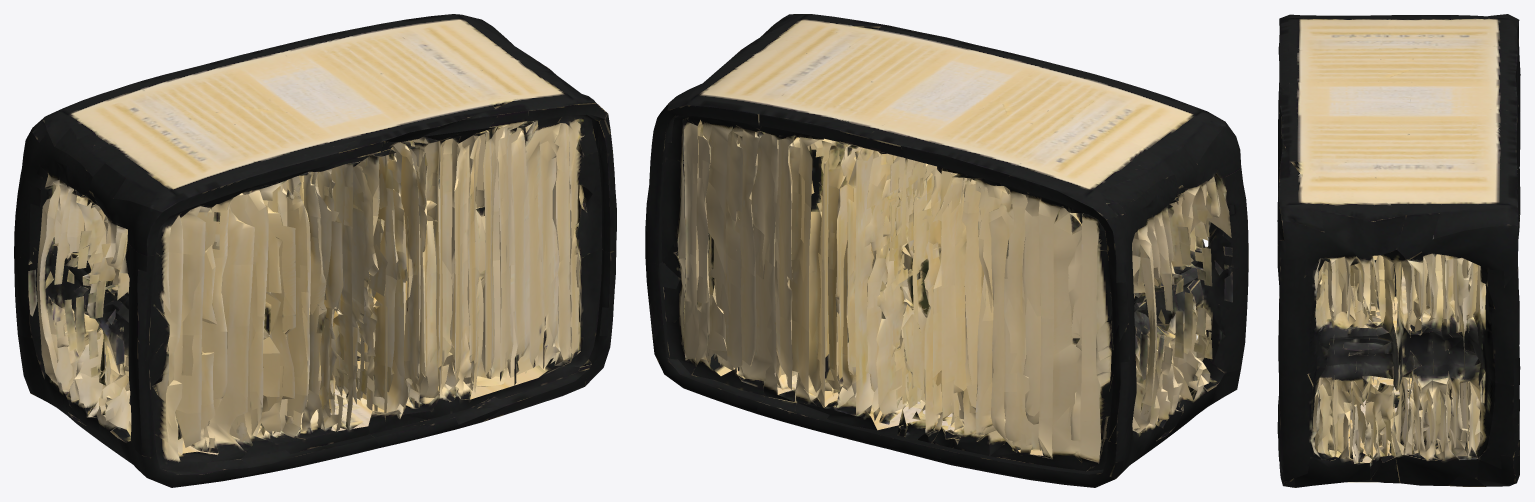
File: air-filter.glb
3 renders of one model, left to right at view 1: azimuth 30°, elevation 25°; view 2: azimuth 150°, elevation 25°; view 3: azimuth 270°, elevation 25°, orthographic. The views are drawn at different scales.
Bounding box in the file's own units: 1.9 × 1.15 × 0.8494.
Materials: 1 (1 with a texture image).
